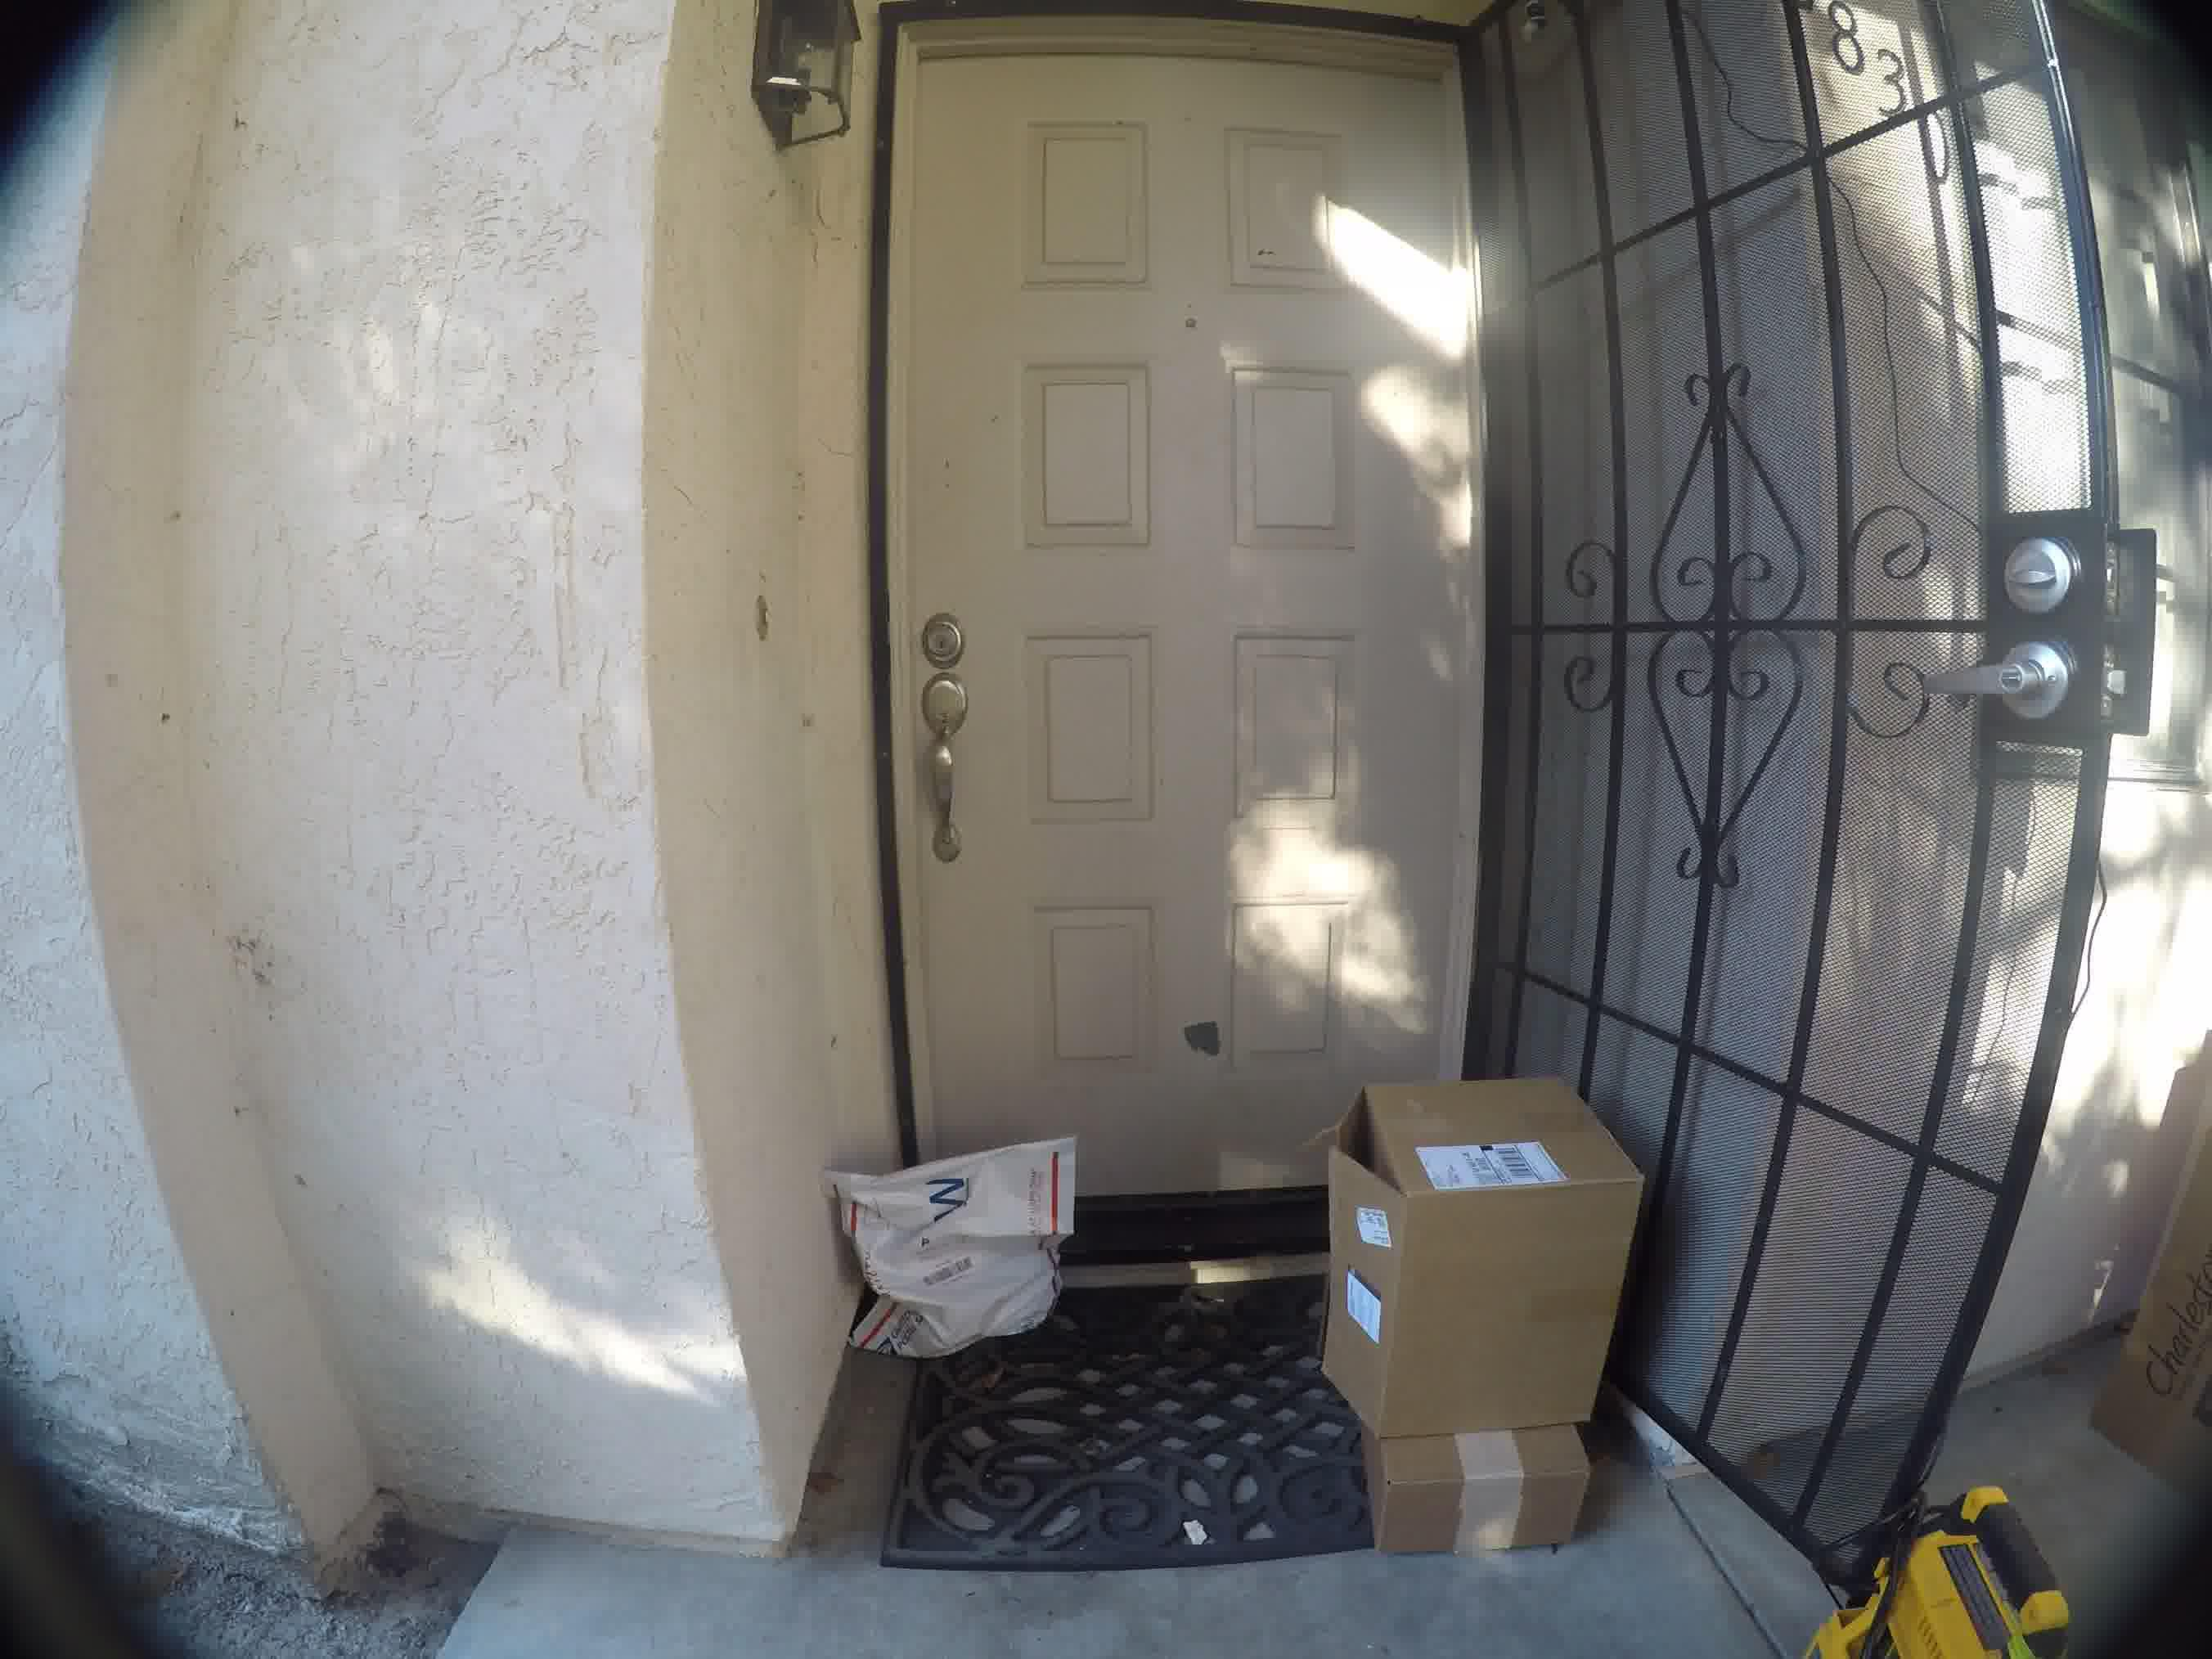box: (1310, 1049, 1658, 1425), (1350, 1422, 1616, 1561)
plastic_bag: (836, 1136, 1076, 1358)
